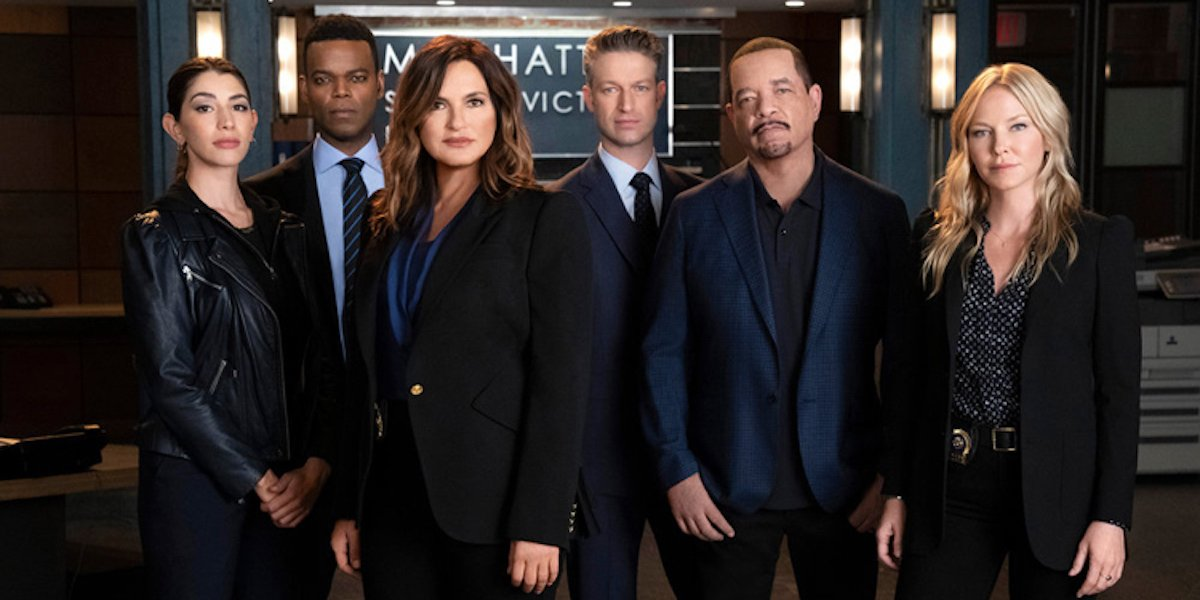Person: (711, 42, 891, 600), (937, 64, 1128, 559), (404, 42, 561, 593), (151, 59, 294, 550), (299, 14, 391, 524), (580, 47, 668, 542)
